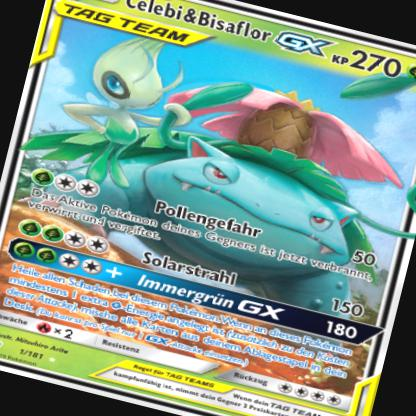Venusaur: (21, 36, 412, 289)
